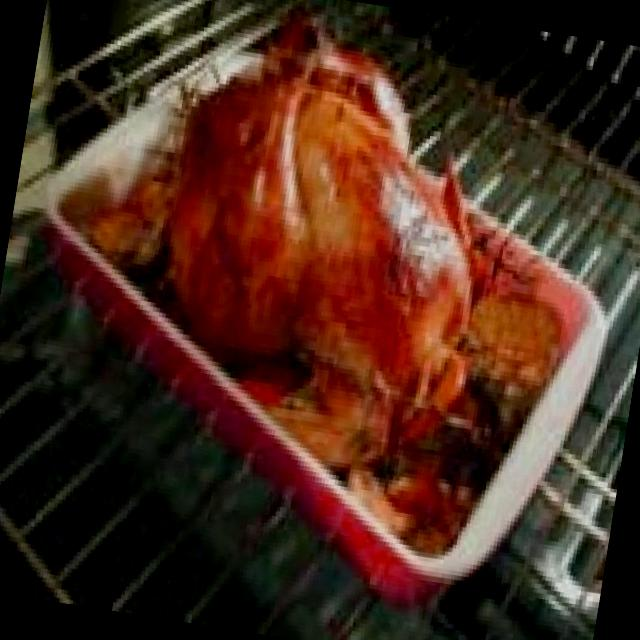Chicken: (115, 28, 522, 444)
